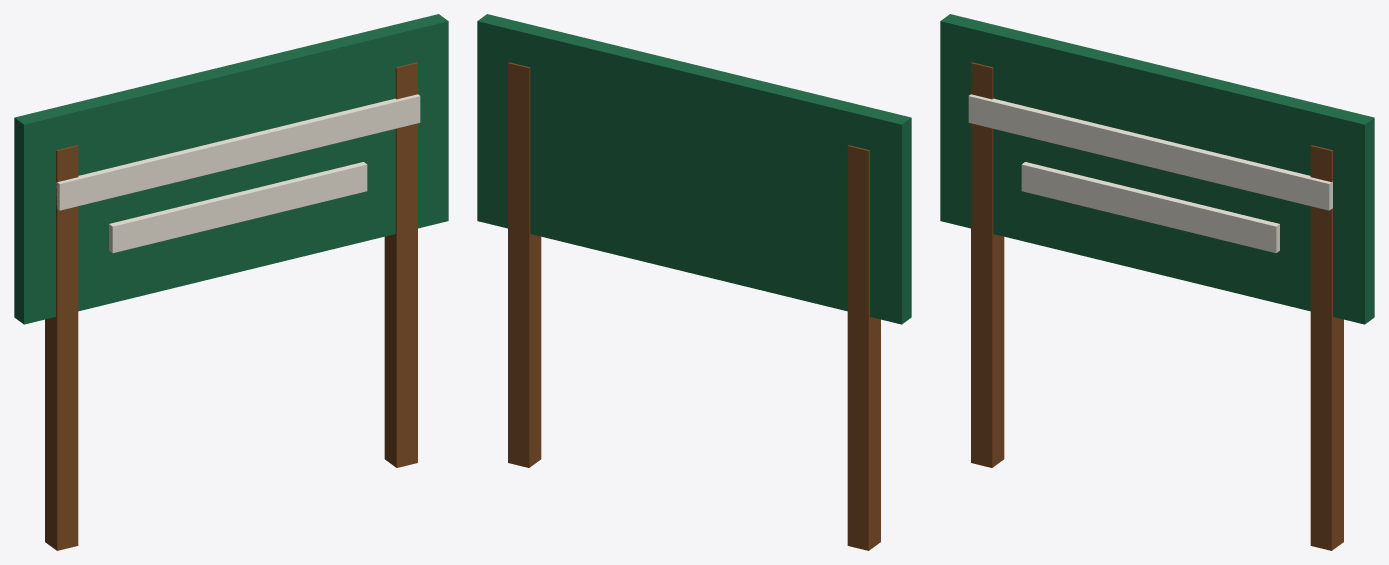
File: park_sign.glb
3 renders of one model, left to right at view 1: azimuth 30°, elevation 25°; view 2: azimuth 150°, elevation 25°; view 3: azimuth 330°, elevation 25°, orthographic.
Parts seen in each view (by area): view 1: park_sign; view 2: park_sign; view 3: park_sign.
Boxes of the visible parts, x1,y1,x2,y2 form: park_sign: (14,14,448,550); park_sign: (477,14,911,550); park_sign: (940,14,1374,550).
Bounding box in the file's own units: 2 × 1.95 × 0.12.
